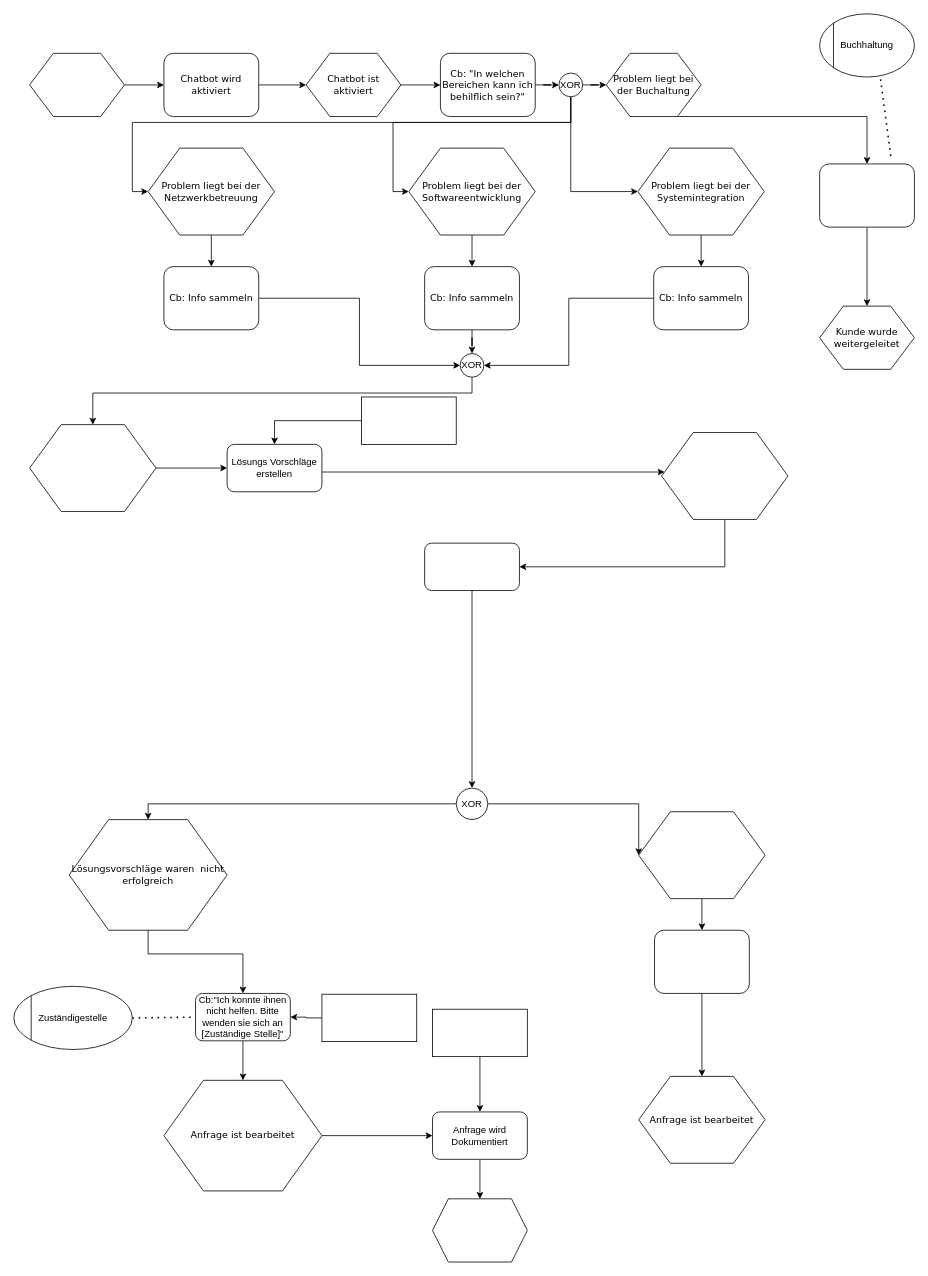
This 928x1276 diagram has some shape labels left out. The centre of each missing label's shape, as x and y in pixels:
Anfrage wurde in der Datenbank dokumentiert: the point at 479,1230
Cb: "Auf Wiedersehen": the point at 701,961
Cb: "wenden sie sich an [Buchaltung]": the point at 866,195
Fehler DB: the point at 479,1032
Infos gesammelt: the point at 92,468
Kunde hat Problem: the point at 76,85
Liste Zuständige Stelle: the point at 369,1017
Lösungs DB: the point at 408,420
Lösungs Vorschläge durchgeführt: the point at 471,566
Lösungsvorschläge waren erfolgreich: the point at 701,855
Lösungsvorschläge wurden erstellt: the point at 724,475
